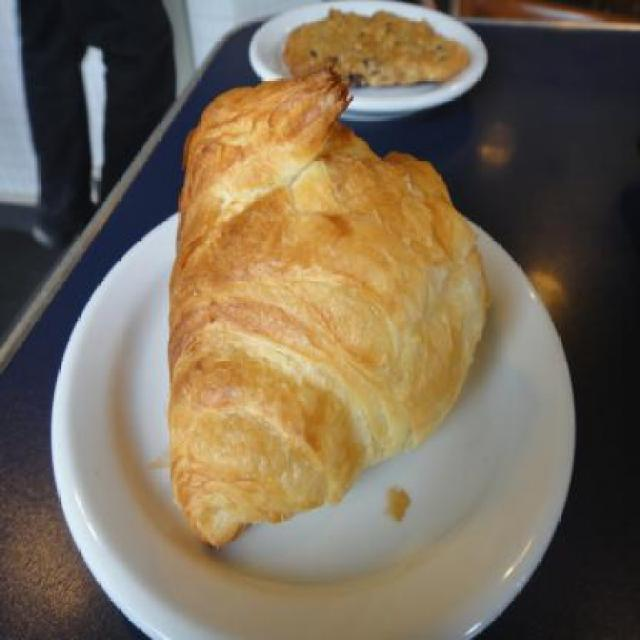Croissant: (144, 59, 483, 544)
